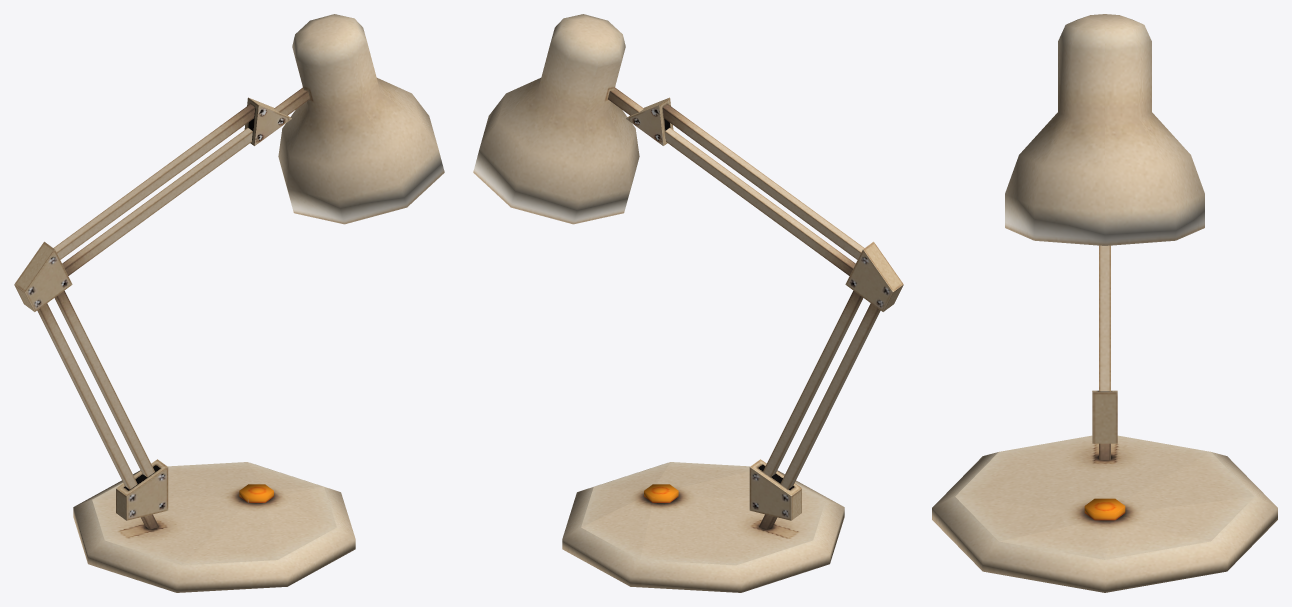
File: ps2_table_lamp.glb
The picture shows the model from 3 angles, left to right: view 1: azimuth 30°, elevation 25°; view 2: azimuth 150°, elevation 25°; view 3: azimuth 270°, elevation 25°; orthographic projection. The views are drawn at different scales.
Visible parts, largest first — view 1: table_lamp.001; view 2: table_lamp.001; view 3: table_lamp.001.
Boxes of the visible parts, left/top/right/bottom form: table_lamp.001: left=14, top=14, right=444, bottom=592; table_lamp.001: left=473, top=14, right=903, bottom=592; table_lamp.001: left=932, top=14, right=1277, bottom=592.
Size of the model in its own units: 0.5125 by 0.5678 by 0.3116.
Materials: 2 (1 with a texture image).
